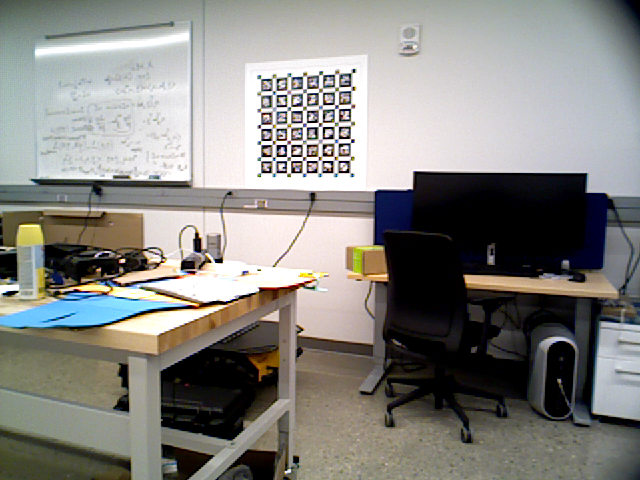painting4: (246, 55, 365, 190)
